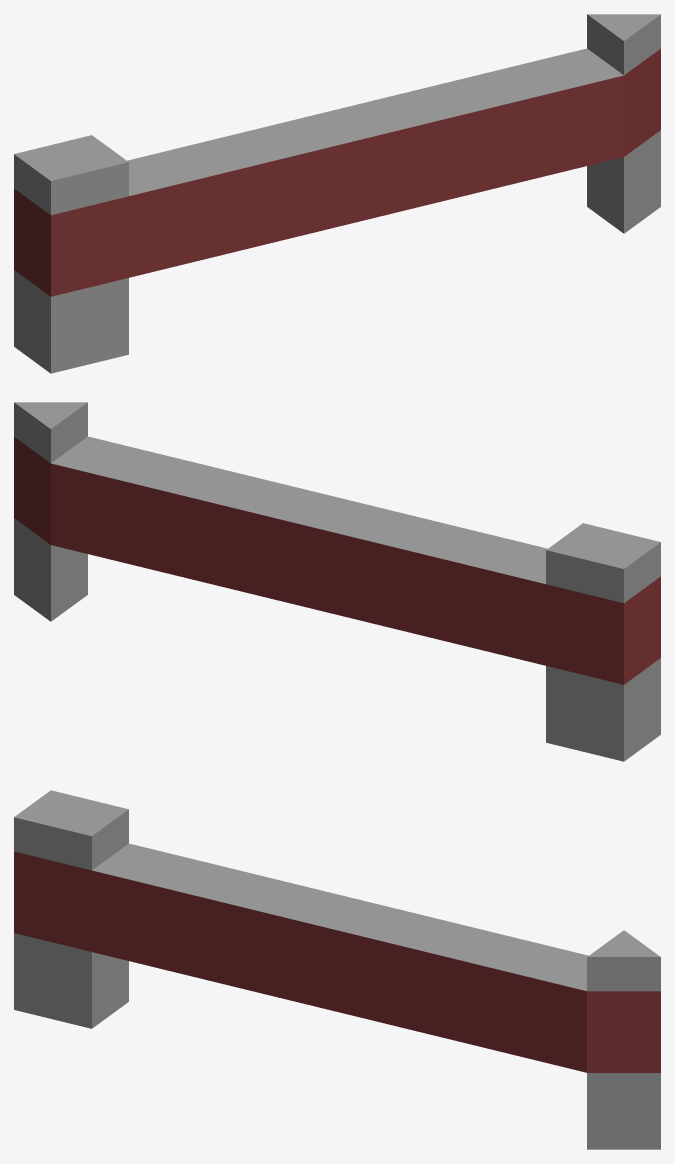
Rendered from APRailC.fbx.
The picture shows the model from 3 angles, top to bottom: view 1: azimuth 30°, elevation 25°; view 2: azimuth 150°, elevation 25°; view 3: azimuth 330°, elevation 25°; orthographic projection.
Parts seen in each view (by area): view 1: APRailC; view 2: APRailC; view 3: APRailC.
Boxes of the visible parts, box(x1,y1,x2,y2) form: APRailC: box(14, 14, 660, 373); APRailC: box(14, 402, 660, 761); APRailC: box(14, 790, 660, 1149).
Size of the model in its own units: 274 by 80.29 by 27.91.
1 material, 1 textured.
